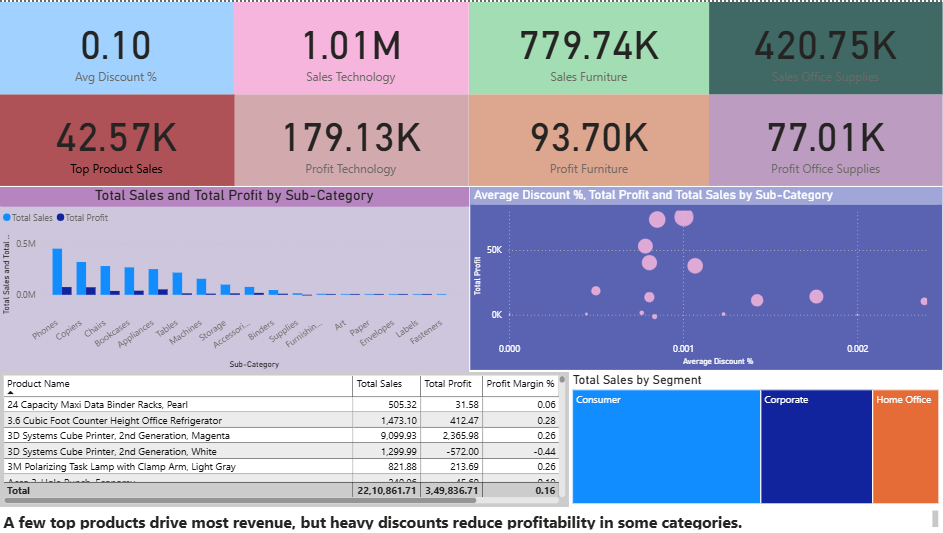

Layout of this report page (visuals, bound fields, positions):
{"tool":"powerbi","page":{"name":"Category & Product Analysis","canvas":[1280,720],"ordinal":1},"visuals":[{"type":"card","fields":{"Values":["Orders.Sales Office Supplies"]},"box":[963.3,0,316.5,125.3],"z":0},{"type":"card","fields":{"Values":["Orders.Sales Furniture"]},"box":[638,0,325.3,125.3],"z":1000},{"type":"card","fields":{"Values":["Orders.Sales Technology"]},"box":[317.7,0,320.3,125.3],"z":2000},{"type":"card","fields":{"Values":["Orders.Profit Furniture"]},"box":[638,125.3,325.3,124.1],"z":3000},{"type":"card","fields":{"Values":["Orders.Profit Office Supplies"]},"box":[963.3,125.3,316.5,124.1],"z":4000},{"type":"card","fields":{"Values":["Orders.Profit Technology"]},"box":[317.7,125.3,320.3,124.1],"z":5000},{"type":"card","fields":{"Values":["Orders.Avg Discount %"]},"box":[0,0,317.2,125.9],"z":6000},{"type":"card","fields":{"Values":["Orders.Top Product Sales"]},"box":[0,125.9,319,124.1],"z":7000},{"type":"lineClusteredColumnComboChart","fields":{"Category":["Orders.Sub-Category"],"Y":["Orders.Total Sales","Orders.Total Profit"]},"box":[0,250,637.9,251.7],"z":8000},{"type":"scatterChart","fields":{"X":["Orders.Average Discount %"],"Y":["Orders.Total Profit"],"Size":["Orders.Total Sales"],"Category":["Orders.Sub-Category"]},"box":[639.7,250,639.7,248.3],"z":9000},{"type":"treemap","fields":{"Group":["Orders.Segment"],"Values":["Orders.Total Sales"]},"box":[773,501.4,506.8,183.8],"z":10000},{"type":"tableEx","fields":{"Values":["Orders.Product Name","Orders.Total Sales","Orders.Total Profit","Orders.Profit Margin %","Orders.Average Discount %"]},"box":[0,501.4,773,183.8],"z":11000},{"type":"textbox","box":[0,685.1,1278.4,35.1],"z":12000}]}

Visuals, with their boxes in screenshot pixels (x1, y1, x2, y2), scaled from the page's 1280x720 canvas onto the 943x533 screenshot:
card - Orders.Sales Office Supplies: <bbox>710, 0, 942, 93</bbox>
card - Orders.Sales Furniture: <bbox>470, 0, 710, 93</bbox>
card - Orders.Sales Technology: <bbox>234, 0, 470, 93</bbox>
card - Orders.Profit Furniture: <bbox>470, 93, 710, 185</bbox>
card - Orders.Profit Office Supplies: <bbox>710, 93, 942, 185</bbox>
card - Orders.Profit Technology: <bbox>234, 93, 470, 185</bbox>
card - Orders.Avg Discount %: <bbox>0, 0, 234, 93</bbox>
card - Orders.Top Product Sales: <bbox>0, 93, 235, 185</bbox>
lineClusteredColumnComboChart - Orders.Sub-Category x Orders.Total Sales: <bbox>0, 185, 470, 371</bbox>
scatterChart - Orders.Average Discount % x Orders.Total Profit: <bbox>471, 185, 942, 369</bbox>
treemap - Orders.Segment x Orders.Total Sales: <bbox>569, 371, 942, 507</bbox>
tableEx - Orders.Product Name x Orders.Total Sales: <bbox>0, 371, 569, 507</bbox>
textbox: <bbox>0, 507, 942, 532</bbox>
